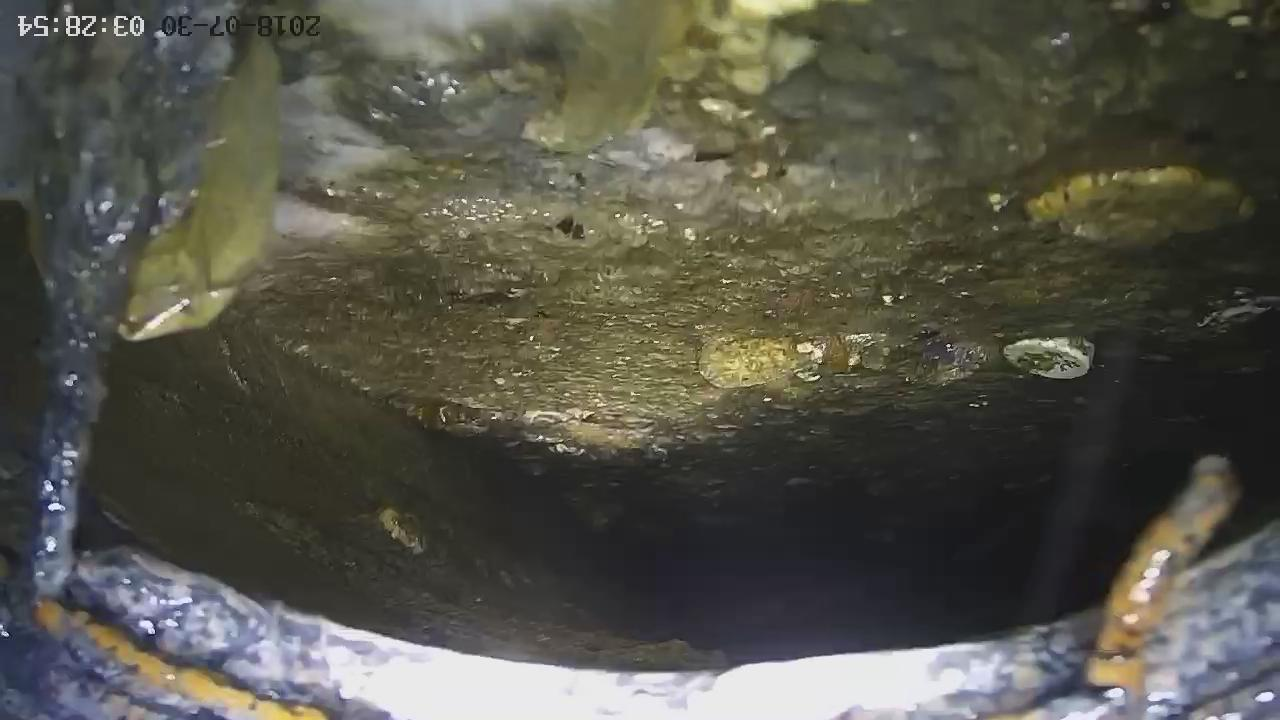JG: (230, 1, 1280, 507)
